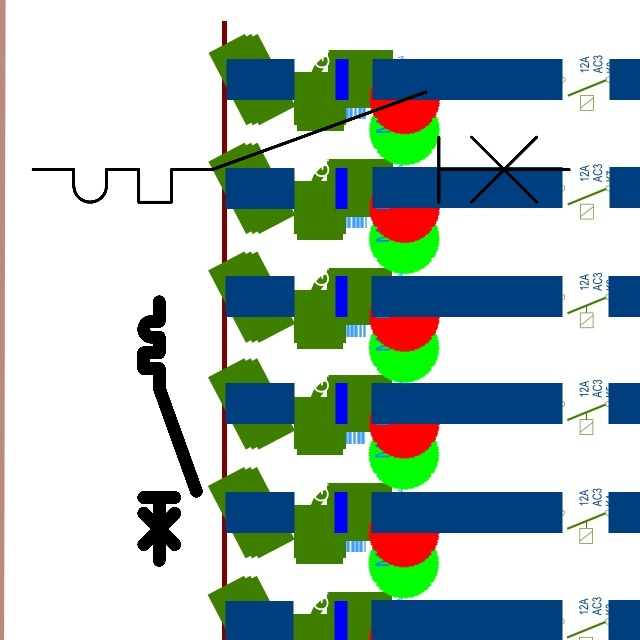interruptor_termomagnetico: (19, 78, 583, 216), (137, 295, 203, 567)
